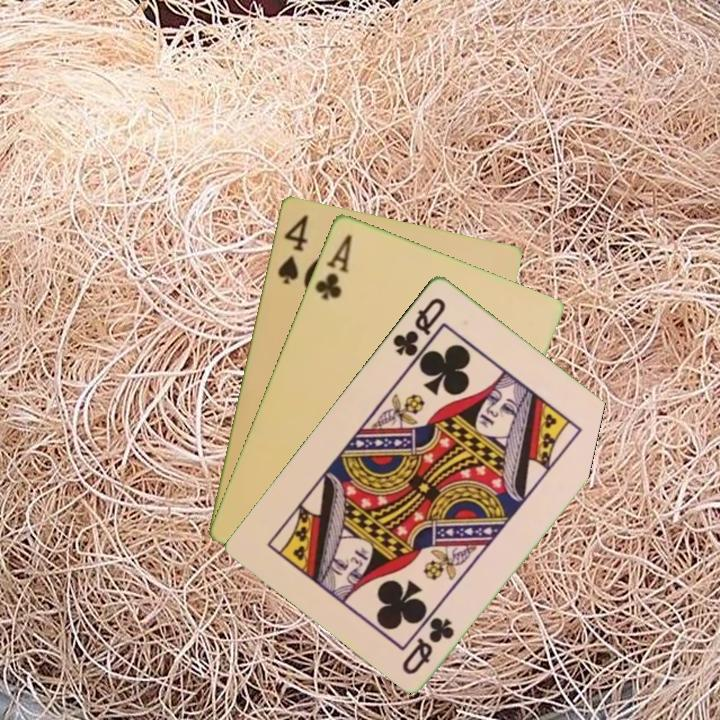4s: (273, 211, 311, 287)
Ac: (310, 230, 355, 302)
Qc: (389, 293, 449, 359), (398, 612, 457, 677)
